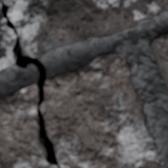brick: (150, 35, 167, 87)
broken_brick: (0, 52, 161, 167), (0, 0, 167, 58), (0, 7, 13, 71)
crack: (0, 2, 58, 165)
